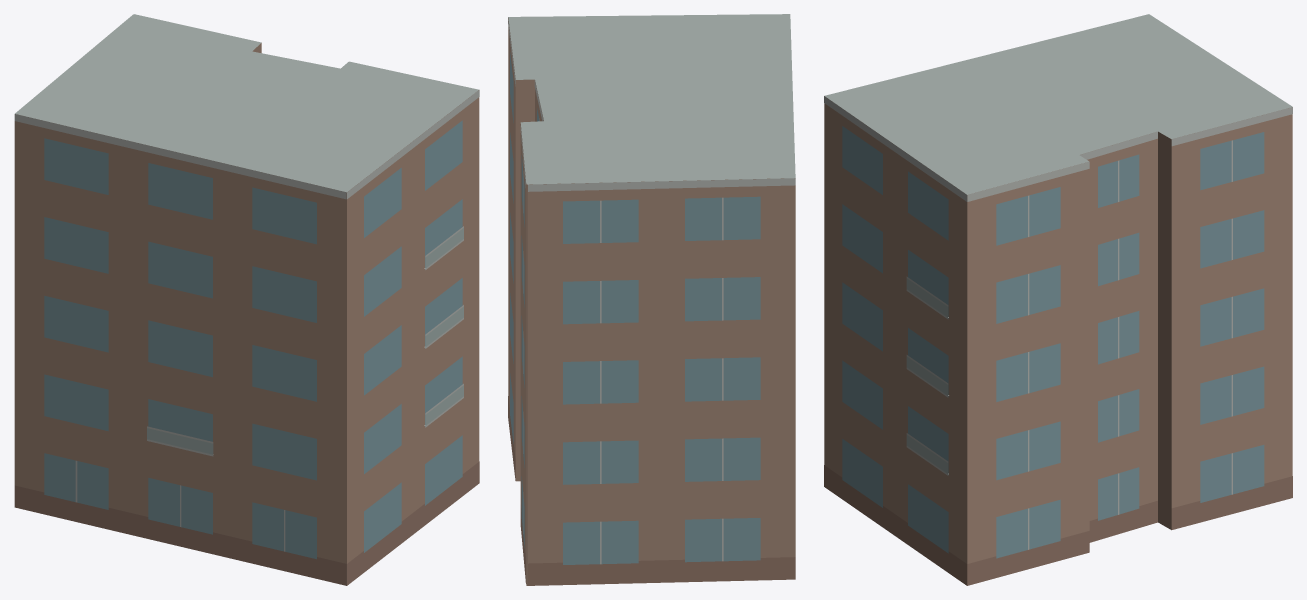
The model's file is survey-upis-32933960.glb.
3 views of the same model, side by side, from view 1: azimuth 30°, elevation 25°; view 2: azimuth 150°, elevation 25°; view 3: azimuth 270°, elevation 25° (orthographic). The views are drawn at different scales.
Parts seen in each view (by area): view 1: survey-upis-32933960.tmp; view 2: survey-upis-32933960.tmp; view 3: survey-upis-32933960.tmp.
Part boxes in pixels (x1,y1,x2,y2): survey-upis-32933960.tmp: [14, 14, 479, 585]; survey-upis-32933960.tmp: [508, 14, 795, 585]; survey-upis-32933960.tmp: [824, 14, 1292, 585].
Bounding box in the file's own units: 13.21 × 13.3 × 14.46.
